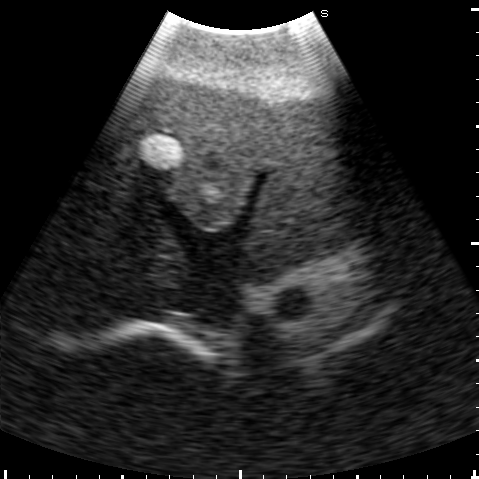S2: (248, 102, 351, 280)
S4: (127, 79, 275, 228)
S7: (30, 250, 120, 332)
S8: (74, 140, 182, 293)
Tumor: (139, 135, 182, 169)
